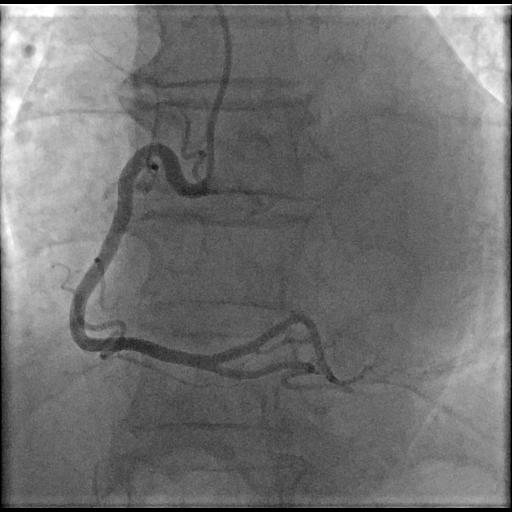RCA: (69, 145, 322, 378)
catherter: (203, 3, 231, 178)
